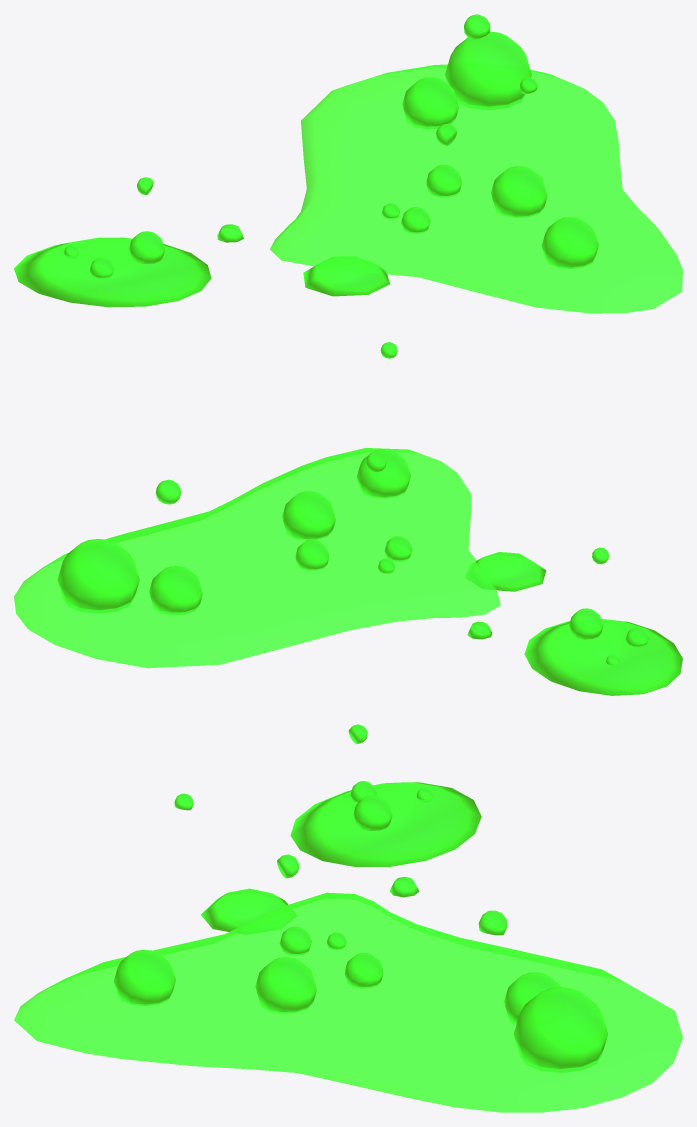
File: Acid_Pond_02.fbx
The picture shows the model from 3 angles, top to bottom: view 1: azimuth 30°, elevation 25°; view 2: azimuth 150°, elevation 25°; view 3: azimuth 270°, elevation 25°; orthographic projection. The views are drawn at different scales.
Visible parts, largest first — view 1: Acid_Pond_02; view 2: Acid_Pond_02; view 3: Acid_Pond_02.
Part boxes in pixels (x1,y1,x2,y2): Acid_Pond_02: (14, 14, 682, 313); Acid_Pond_02: (14, 342, 682, 695); Acid_Pond_02: (14, 724, 682, 1112).
Bounding box in the file's own units: 295 × 83.56 × 252.
